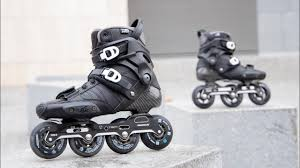roller_blate: (35, 24, 171, 159), (196, 31, 272, 104)
